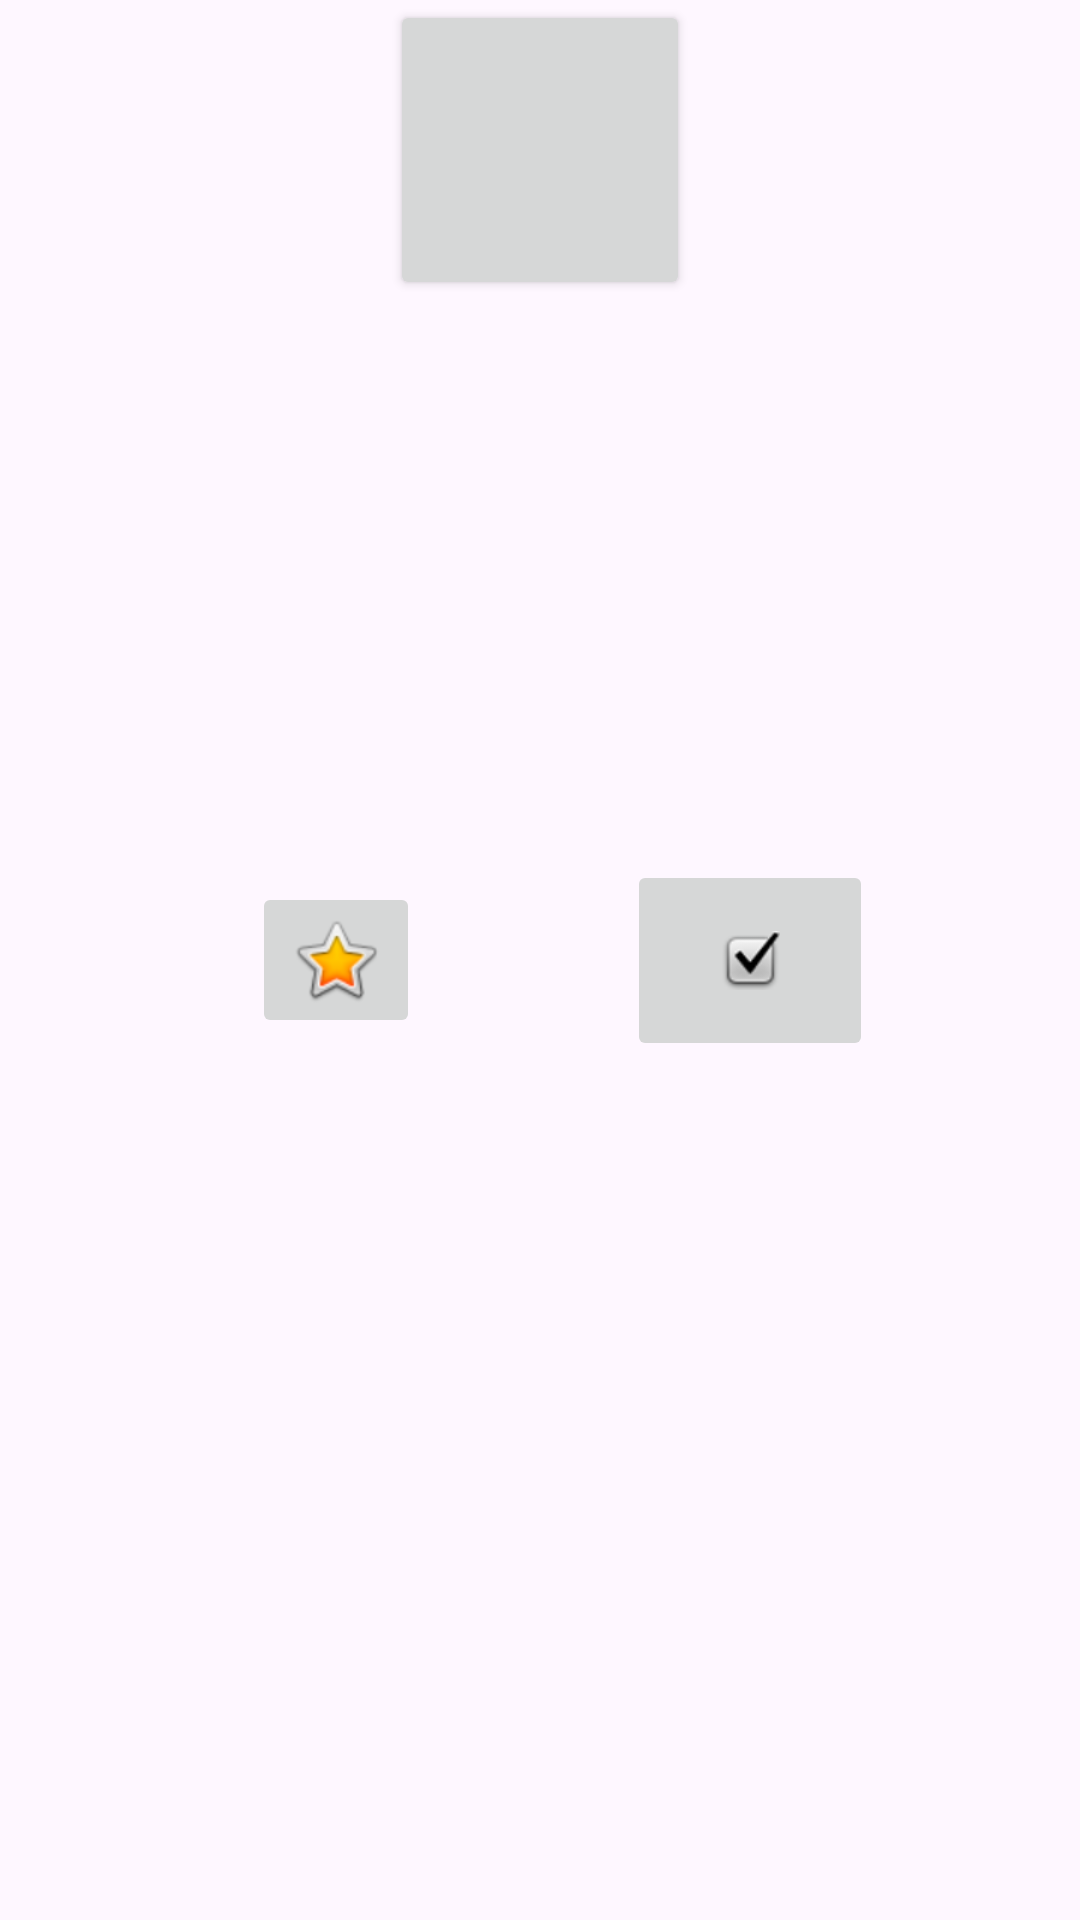

Icon click points for this 1080 x 1920 phone screenshot, format point (x, y):
star on: point (336, 960)
